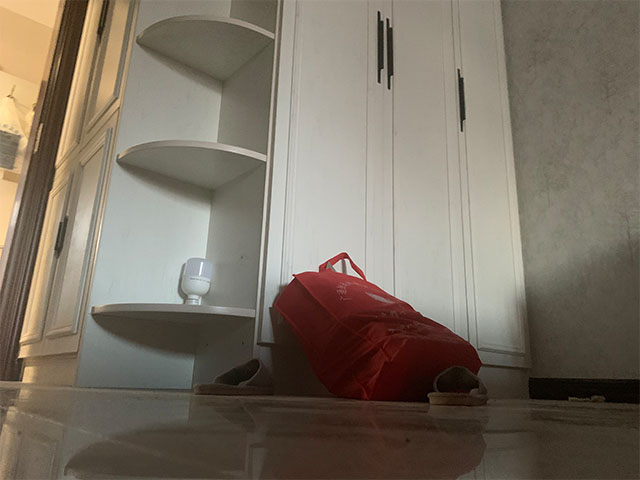cabinet: (17, 1, 533, 399)
slippers: (192, 358, 278, 396), (426, 363, 492, 407)
